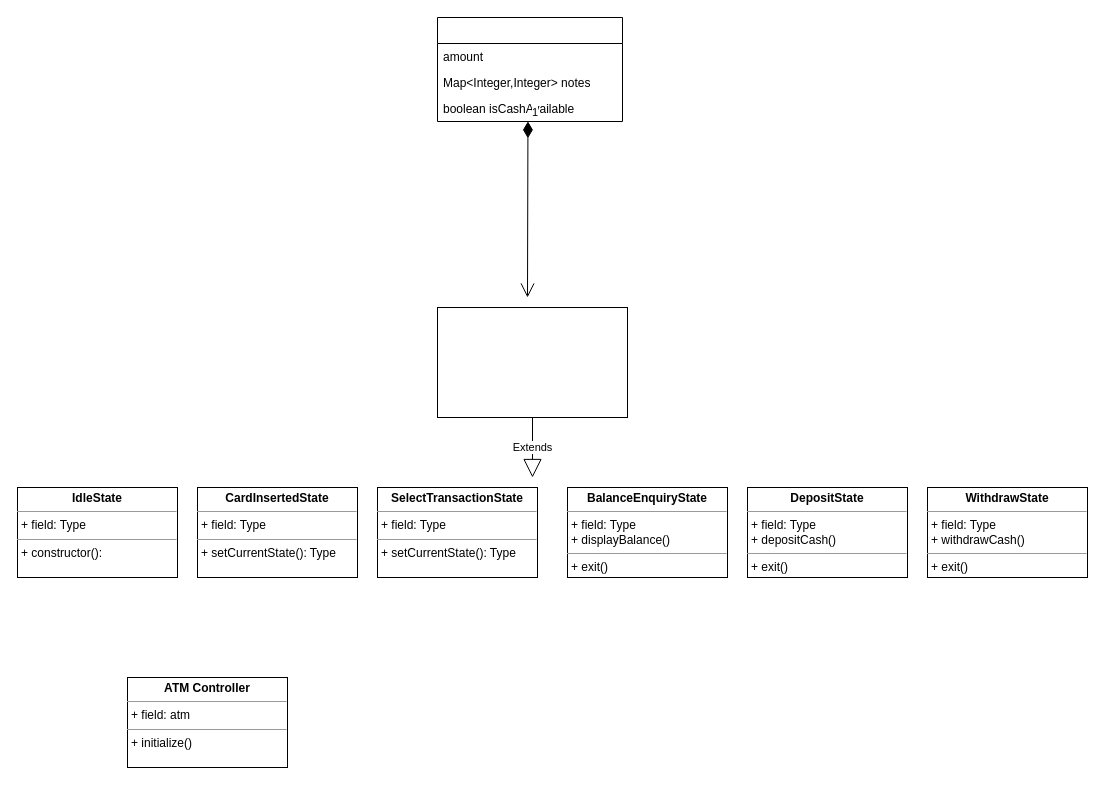
This 1105x785 diagram has some shape labels left out. The shapes that lost their labels are listed below. From the top down, each one's box as (x1, y1, x2, y2) in pixels, then its label:
(436, 16, 622, 122): ATM
(436, 306, 628, 418): <<State>> Abstract Class removeCard() setCurrentState() exit()
